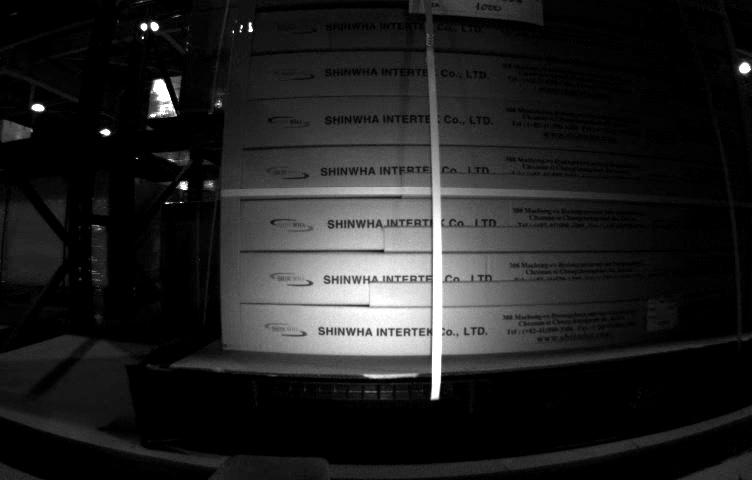True Barcode: (646, 296, 676, 330)
